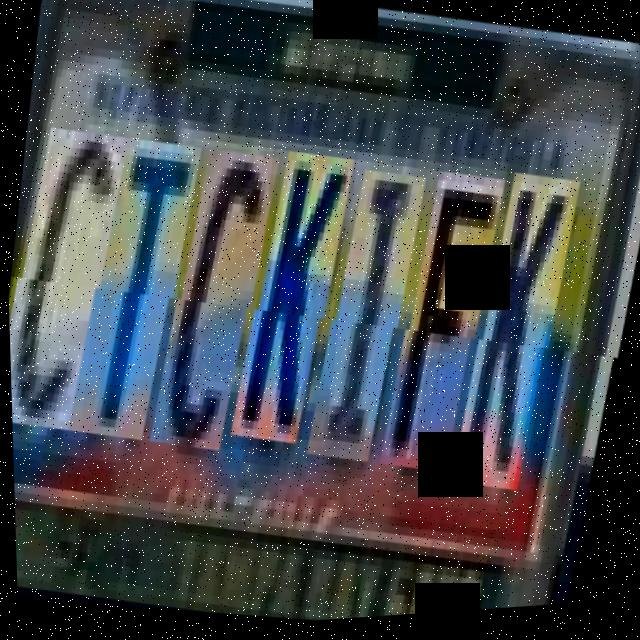C: (152, 143, 289, 458), (3, 122, 137, 437)
F: (382, 166, 515, 480)
I: (309, 165, 435, 469)
K: (454, 168, 591, 498), (232, 146, 363, 451)
T: (70, 132, 211, 447)
